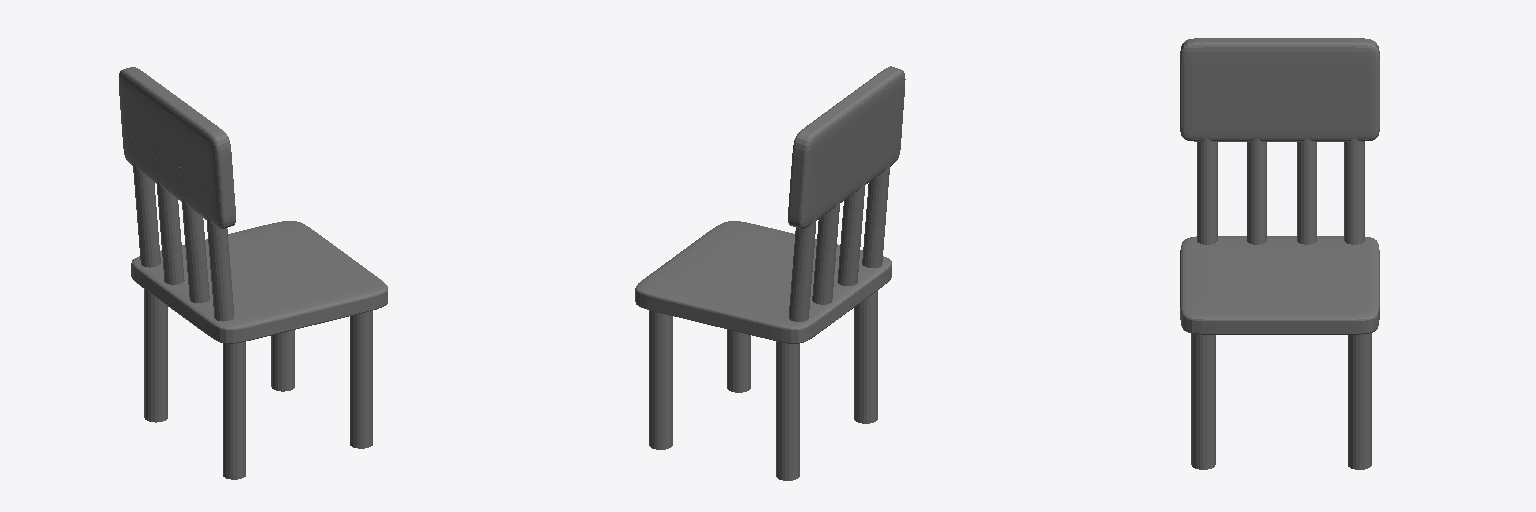
The model's file is Chair.obj.
3 views of the same model, side by side, from view 1: azimuth 30°, elevation 25°; view 2: azimuth 150°, elevation 25°; view 3: azimuth 270°, elevation 25° (orthographic).
Parts seen in each view (by area): view 1: Chair1; view 2: Chair1; view 3: Chair1.
Boxes of the visible parts, x1=… form: Chair1: x1=119, y1=67, x2=387, y2=479; Chair1: x1=635, y1=66, x2=905, y2=480; Chair1: x1=1180, y1=38, x2=1379, y2=469.
Size of the model in its own units: 17.38 by 32.36 by 16.66.